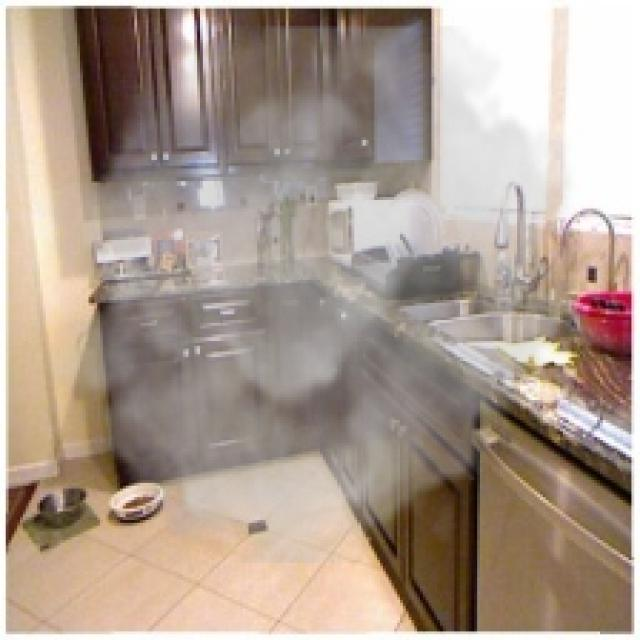smoke: (43, 26, 591, 563)
